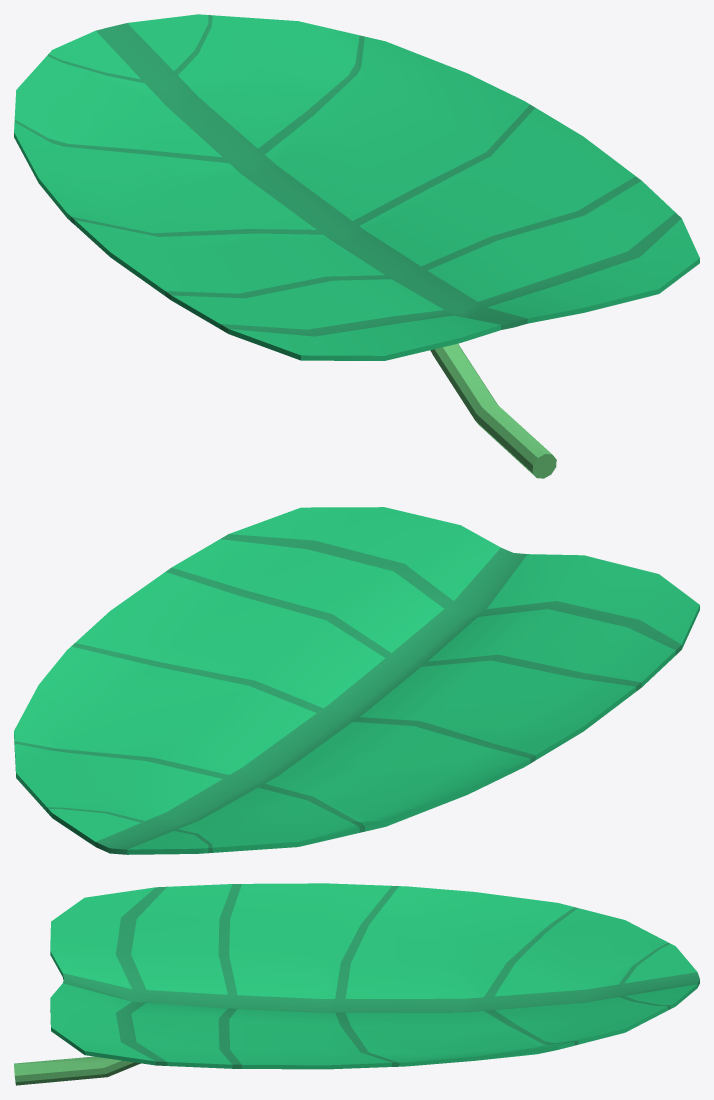
Rendered from GreenLeaf.fbx.
3 views of the same model, one above another, from view 1: azimuth 30°, elevation 25°; view 2: azimuth 150°, elevation 25°; view 3: azimuth 270°, elevation 25° (orthographic). The views are drawn at different scales.
Parts seen in each view (by area): view 1: GreenLeaf; view 2: GreenLeaf; view 3: GreenLeaf.
Part boxes in pixels (left/top/right/bottom): GreenLeaf: left=14, top=14, right=699, bottom=478; GreenLeaf: left=14, top=507, right=699, bottom=854; GreenLeaf: left=14, top=883, right=699, bottom=1085.
Bounding box in the file's own units: 95.39 × 26.98 × 152.
